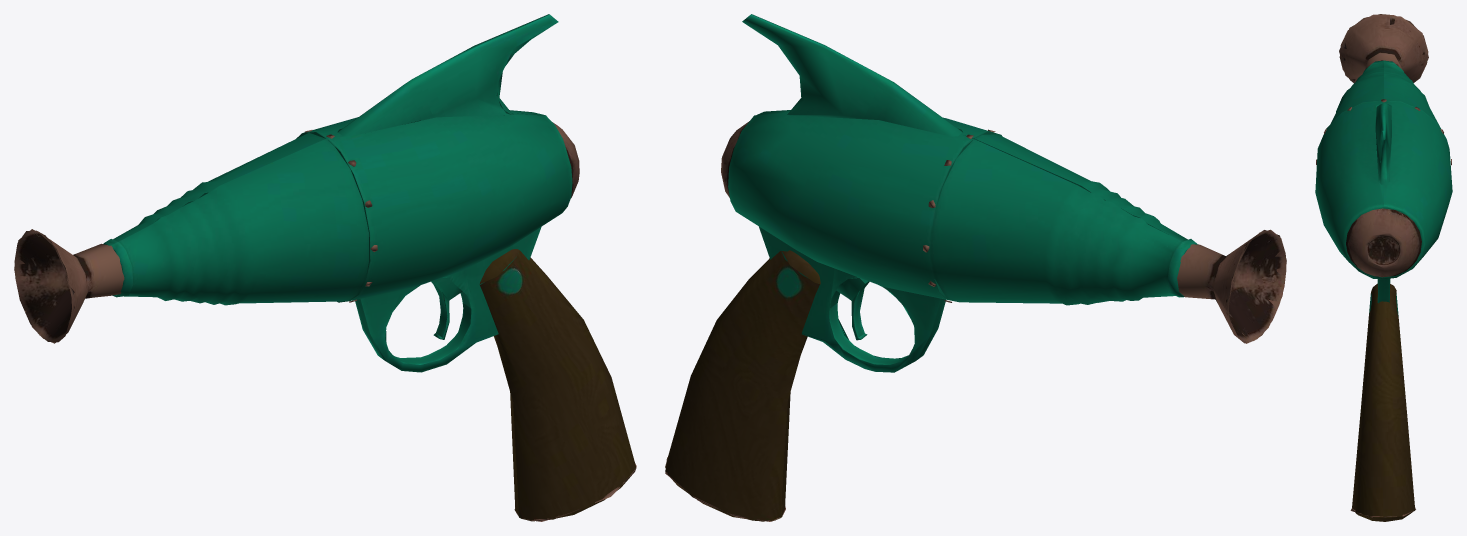
File: misc-outfit-RayGun.glb
3 renders of one model, left to right at view 1: azimuth 30°, elevation 25°; view 2: azimuth 150°, elevation 25°; view 3: azimuth 270°, elevation 25°, orthographic. The views are drawn at different scales.
Visible parts, largest first — view 1: defaultMaterial; view 2: defaultMaterial; view 3: defaultMaterial.
Part boxes in pixels (x1=…): defaultMaterial: x1=14, y1=14, x2=636, y2=521; defaultMaterial: x1=665, y1=14, x2=1286, y2=521; defaultMaterial: x1=1315, y1=14, x2=1452, y2=521.
Bounding box in the file's own units: 0.2764 × 0.223 × 0.0725.
1 material, 1 textured.
